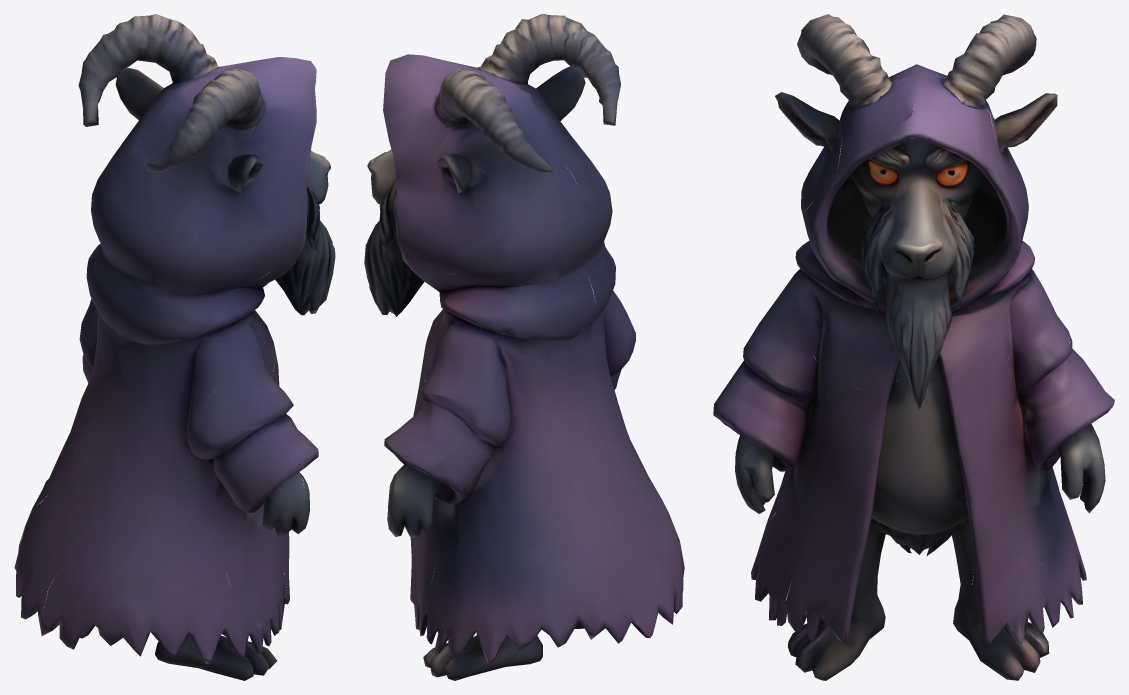
Rendered from akerbeltz.glb.
3 renders of one model, left to right at view 1: azimuth 30°, elevation 25°; view 2: azimuth 150°, elevation 25°; view 3: azimuth 270°, elevation 25°, orthographic. The views are drawn at different scales.
Visible parts, largest first — view 1: tripo_node_fa0a5f4b-9cf5-4fee-b92e-8492a99a4637; view 2: tripo_node_fa0a5f4b-9cf5-4fee-b92e-8492a99a4637; view 3: tripo_node_fa0a5f4b-9cf5-4fee-b92e-8492a99a4637.
Boxes of the visible parts, x1,y1,x2,y2 form: tripo_node_fa0a5f4b-9cf5-4fee-b92e-8492a99a4637: [14, 14, 335, 680]; tripo_node_fa0a5f4b-9cf5-4fee-b92e-8492a99a4637: [364, 14, 684, 680]; tripo_node_fa0a5f4b-9cf5-4fee-b92e-8492a99a4637: [713, 14, 1114, 680].
Size of the model in its own units: 2.18 by 4.2 by 2.38.
1 material, 1 textured.
